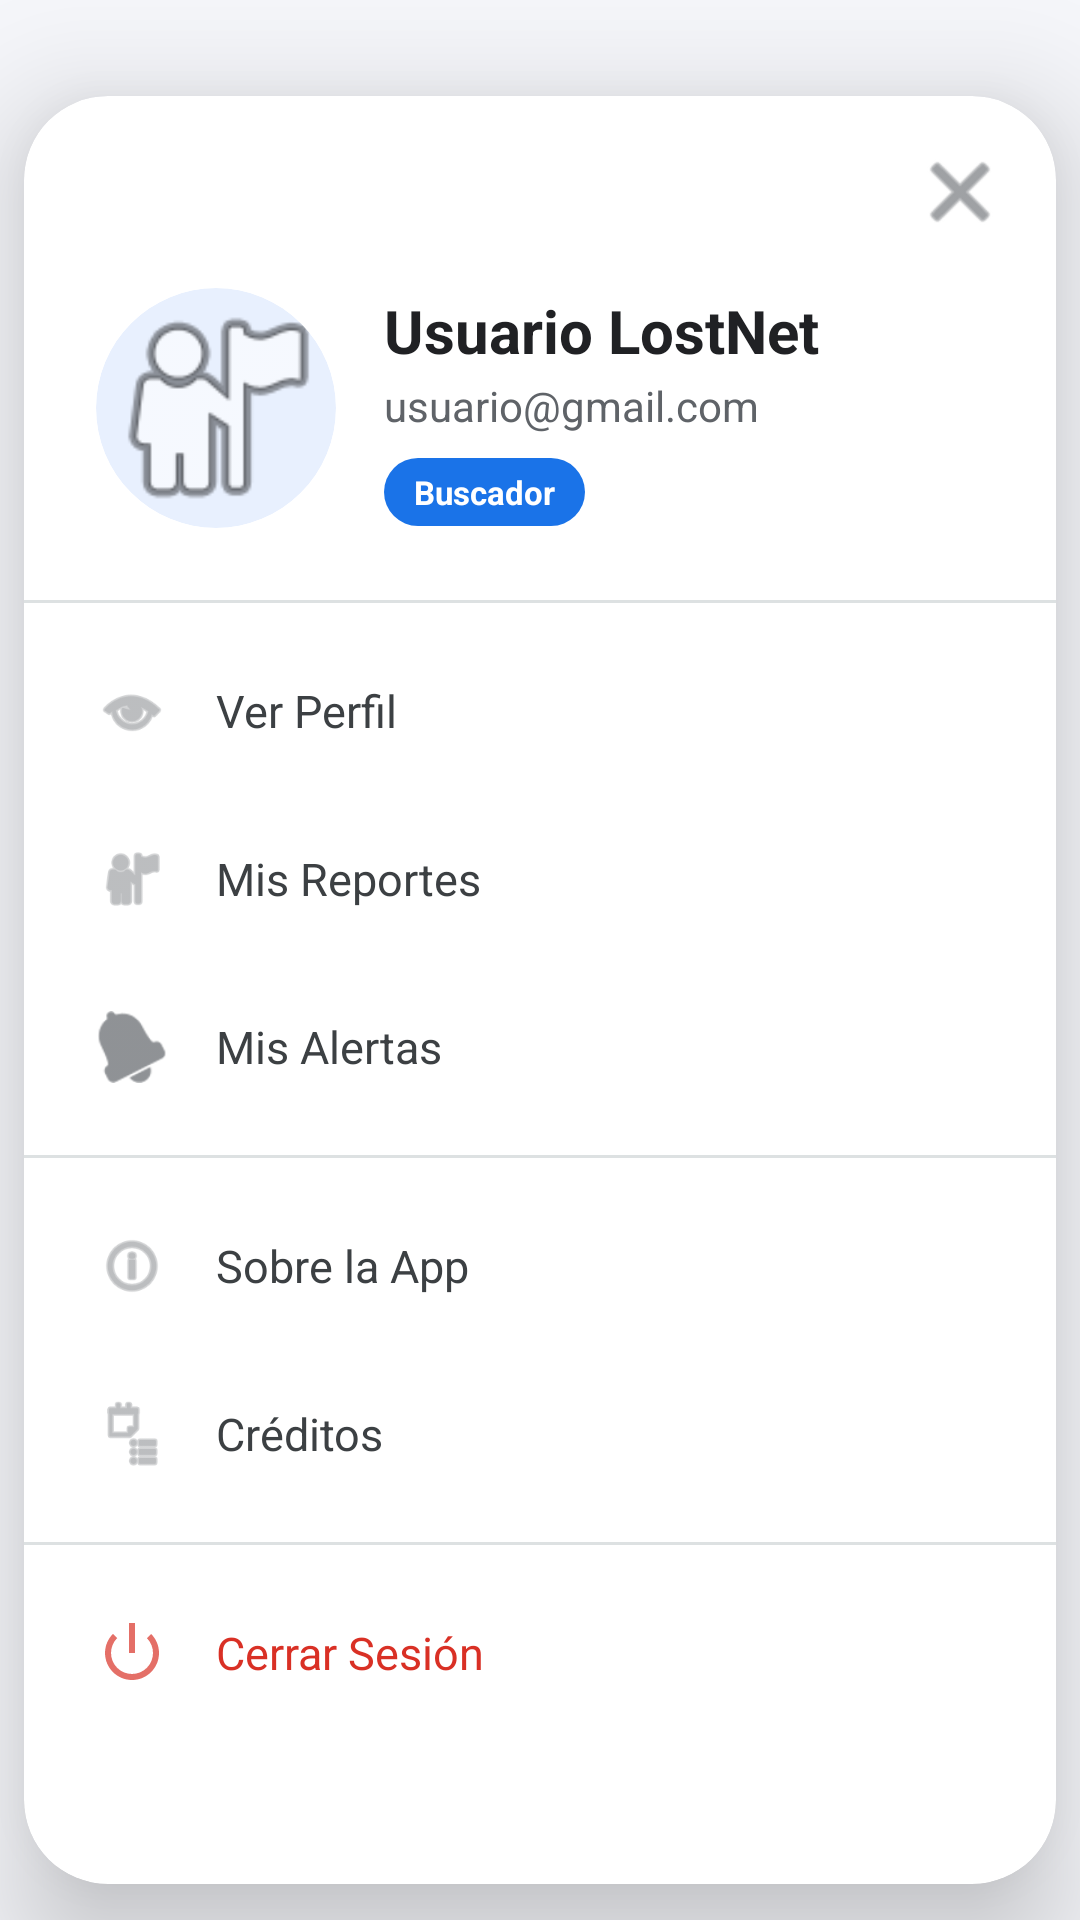

Point at icon controls on the screen. Image size 1080px×1920px, points as [x,y].
agenda: [132,1433]
close clear cancel: [960,192]
info details: [132,1266]
lock power off: [132,1651]
myplaces: [216,408], [133,878]
popup reminder: [132,1047]
view: [132,713]
